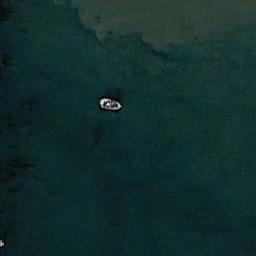boat: (99, 98, 122, 111)
